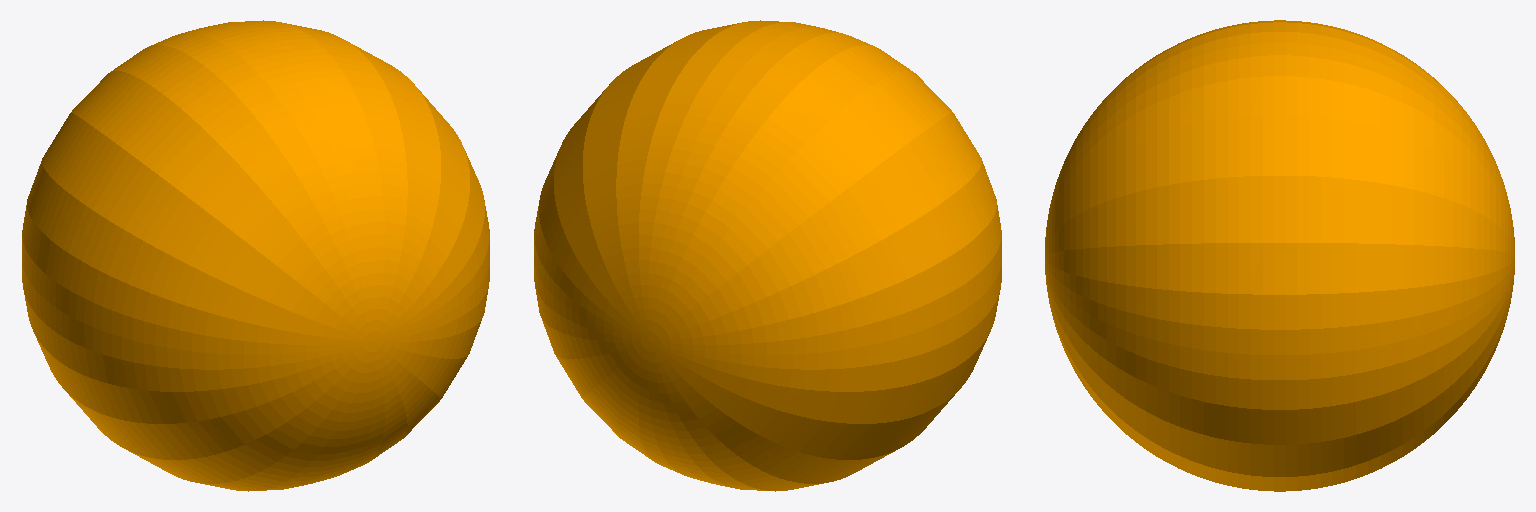
URDF robot description (ball):
<?xml version="1.0" ?>
<robot name="ball">
    <link name="baselink">
        <contact>
            <restitution value="0.93" />
        </contact>
        <inertial>
            <origin rpy="0 0 0" xyz="0 0 0"/>
            <mass value="0.0027"/>
            <!-- I = 0.4 * m * ((r1^5 - r2^5) / (r1^3 - r2^3)) -->
            <!-- r1 = 0.02 | r2 = 0.0196 -->
            <inertia ixx="0.000000706" ixy="0" ixz="0" iyy="0.000000706" iyz="0" izz="0.000000706"/>
        </inertial>
        <visual>
            <origin rpy="0 0 0" xyz="0 0 0"/>
            <geometry>
                <mesh filename="meshes/ball.obj" scale="1 1 1"/>
            </geometry>
            <material name="orange">
                <color rgba="1.0 0.66 0.0 1"/>
                <specular rgb="1 1 1"/>
            </material>
        </visual>
        <collision>
            <origin rpy="0 0 0" xyz="0 0 0"/>
            <geometry>
                <mesh filename="meshes/ball.obj" scale="1 1 1"/>
            </geometry>
        </collision>
    </link>
</robot>

--- Render facts (derived) ---
Views: 3 orthographic renders of the robot side by side, from view 1: azimuth 30°, elevation 25°; view 2: azimuth 150°, elevation 25°; view 3: azimuth 270°, elevation 25°.
Model ball with 1 links and 0 joints (none), rooted at baselink, posed every joint at zero.
Visible links, largest first — view 1: baselink; view 2: baselink; view 3: baselink.
Boxes of the visible links, bbox=[...] form: baselink: bbox=[22, 20, 489, 491]; baselink: bbox=[534, 20, 1001, 491]; baselink: bbox=[1045, 20, 1514, 491].
Bounding box of the posed robot: 0.04 × 0.04 × 0.04 m (x, y, z).
1 mesh visuals loaded from 1 distinct referenced files (1 OBJ).